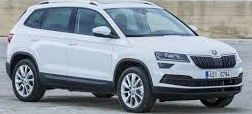car: (4, 1, 243, 110)
